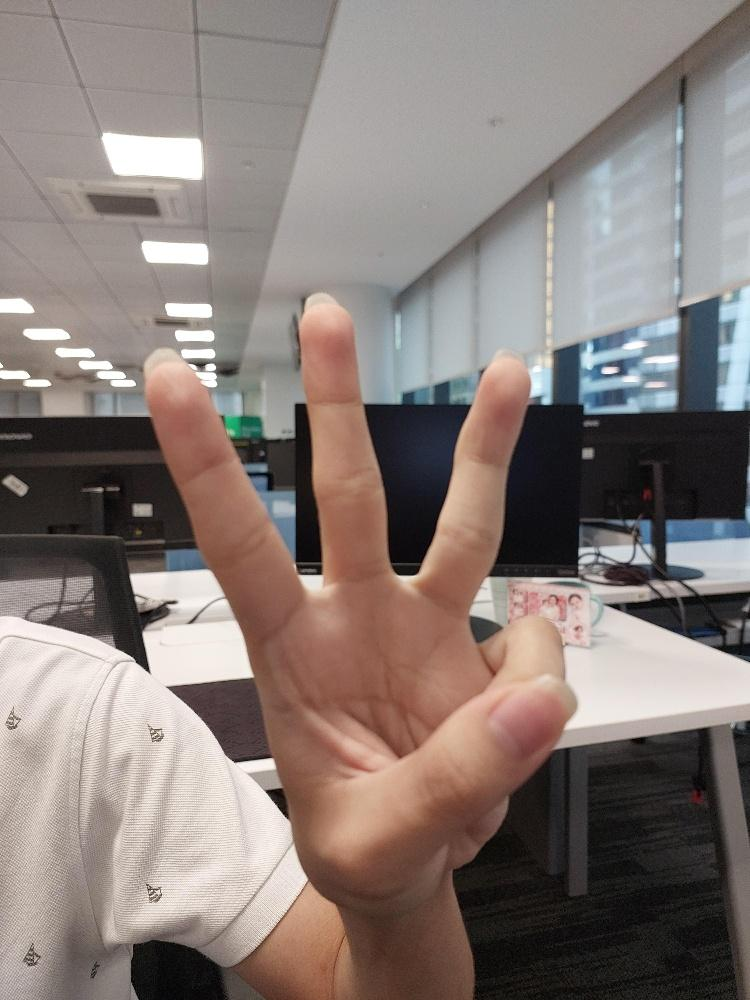w: (141, 291, 574, 906)
